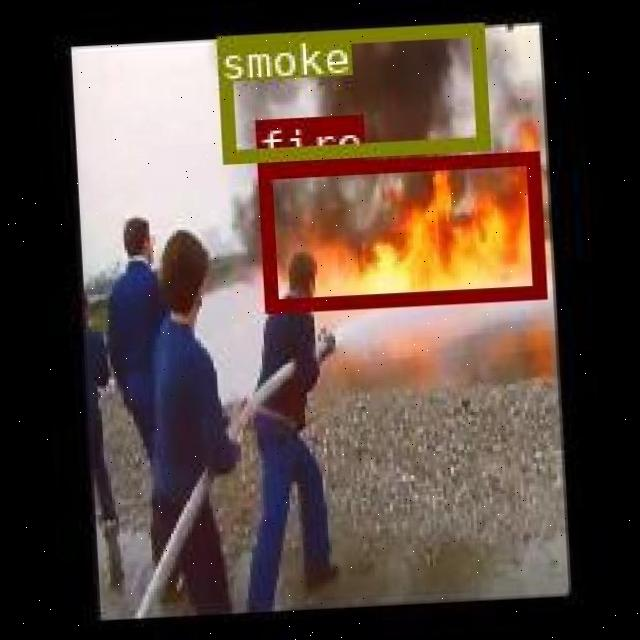fire: (258, 150, 544, 308)
smoke: (215, 22, 486, 160)
